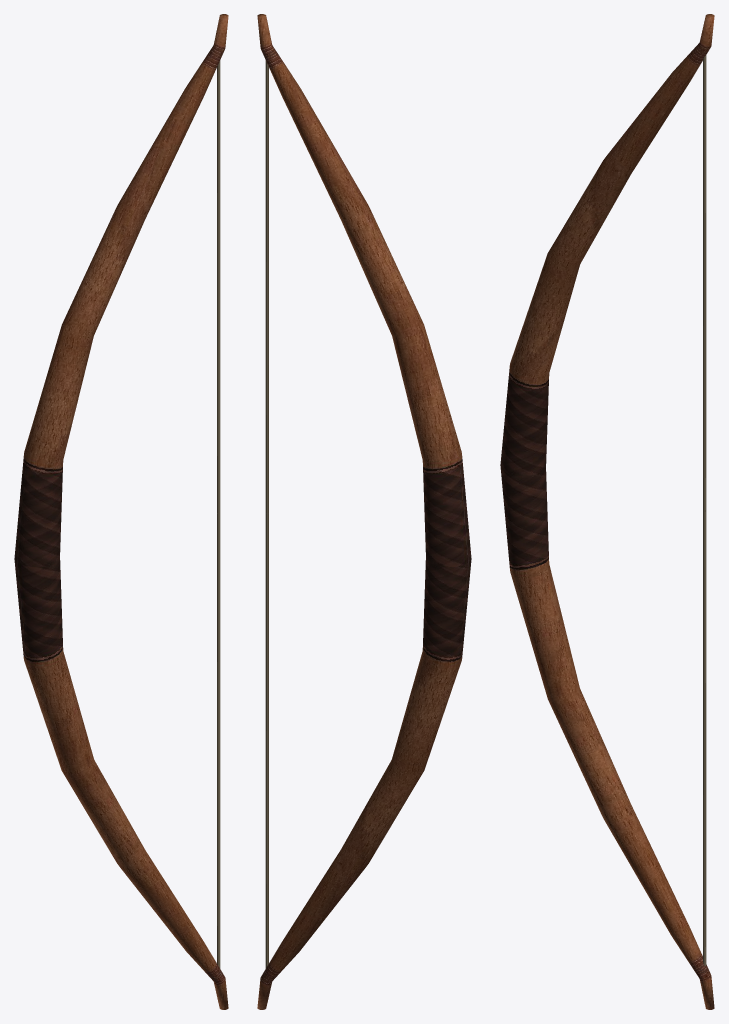
File: natural-bow-source.glb
3 views of the same model, side by side, from view 1: azimuth 30°, elevation 25°; view 2: azimuth 150°, elevation 25°; view 3: azimuth 330°, elevation 25° (orthographic).
Parts seen in each view (by area): view 1: natural-bow-source runtime mesh; view 2: natural-bow-source runtime mesh; view 3: natural-bow-source runtime mesh.
Part boxes in pixels (x1,y1,x2,y2): natural-bow-source runtime mesh: [14, 14, 228, 1009]; natural-bow-source runtime mesh: [257, 14, 471, 1009]; natural-bow-source runtime mesh: [500, 14, 714, 1009].
Size of the model in its own units: 0.2778 by 1.25 by 0.0525.
1 material, 1 textured.
